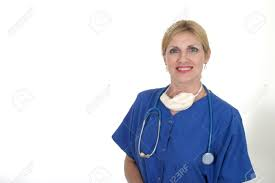mask_weared_incorrect: (159, 32, 210, 112)
